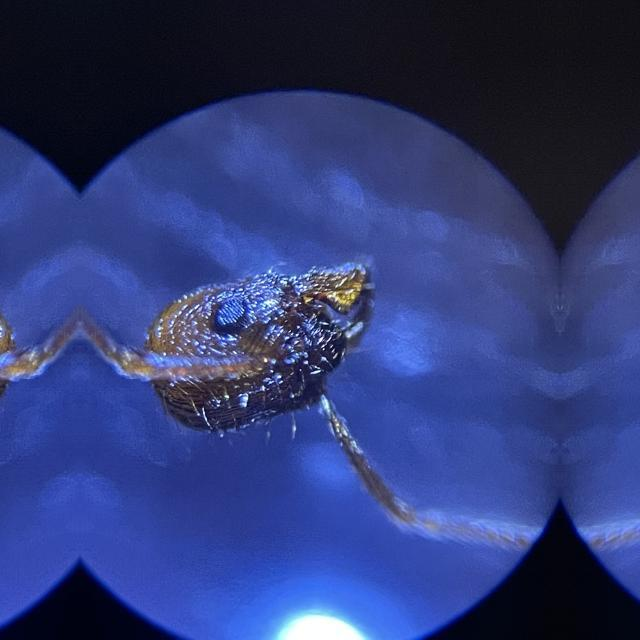Myrmica: (92, 197, 434, 517)
